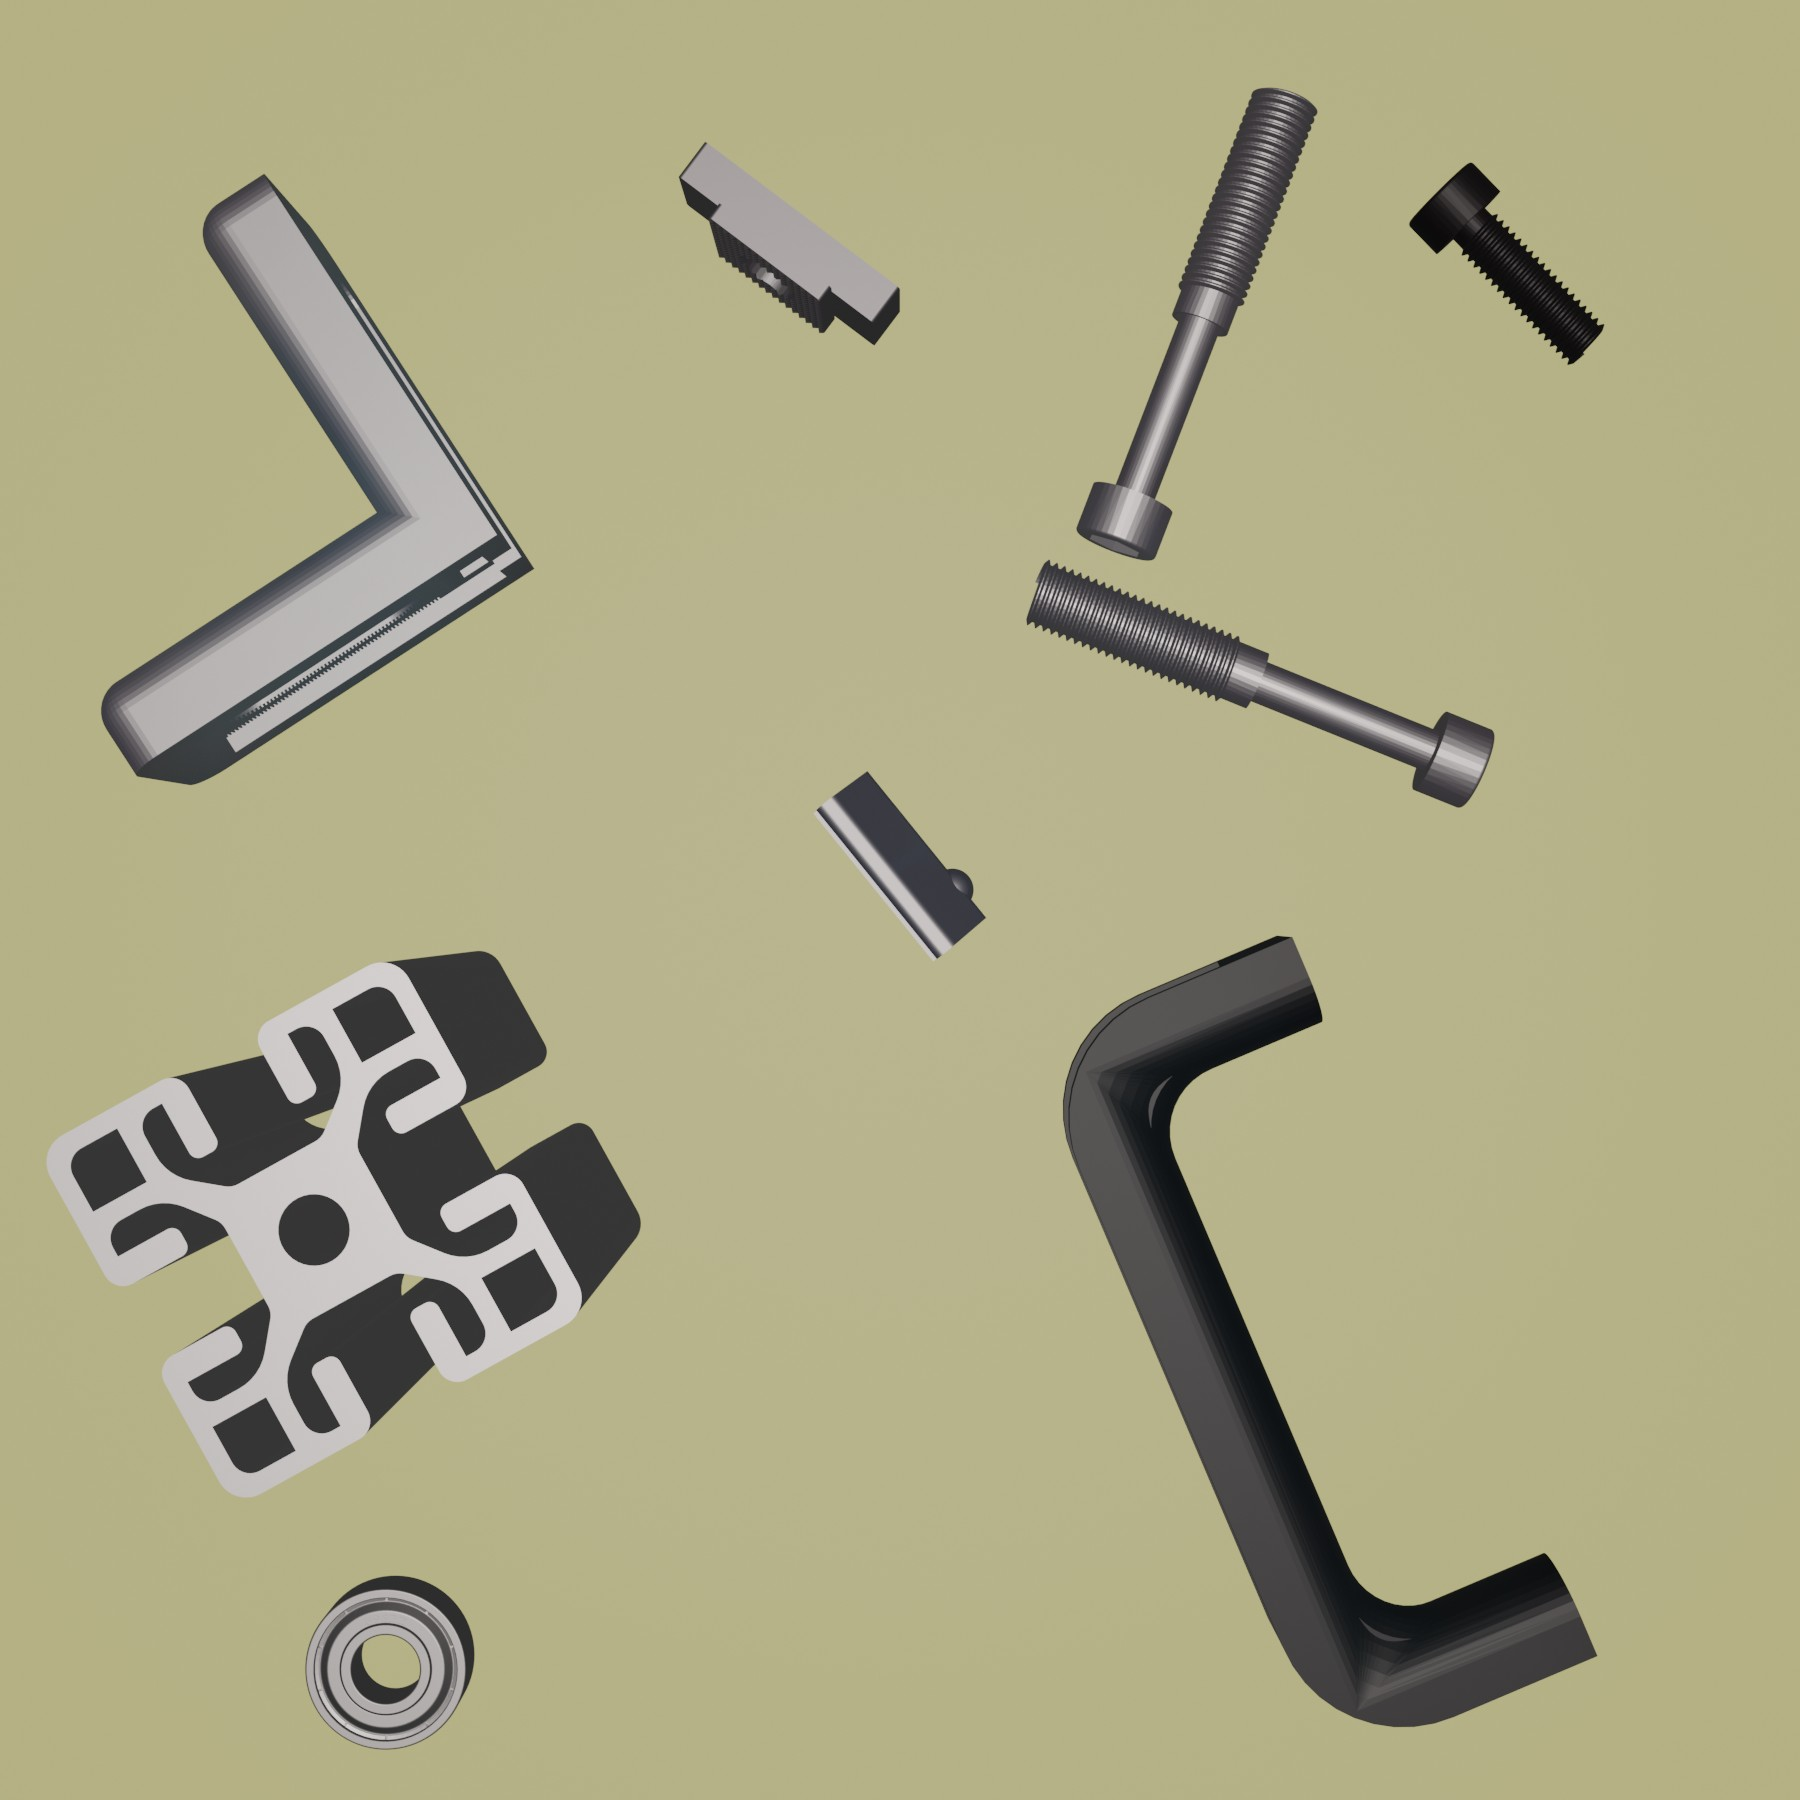Aluminium Extension: (41, 948, 641, 1503)
Ball Bearing: (302, 1573, 476, 1754)
Multiwinkel: (101, 170, 536, 788)
Pull Handle: (1058, 931, 1597, 1731)
Shoulder Socket Head Cap Screw: (1020, 559, 1497, 809), (1075, 84, 1317, 562)
Socket Head Cap Screw: (1406, 158, 1605, 364)
T Nut Square: (677, 138, 902, 349)
T Spring Nut: (809, 768, 987, 964)
